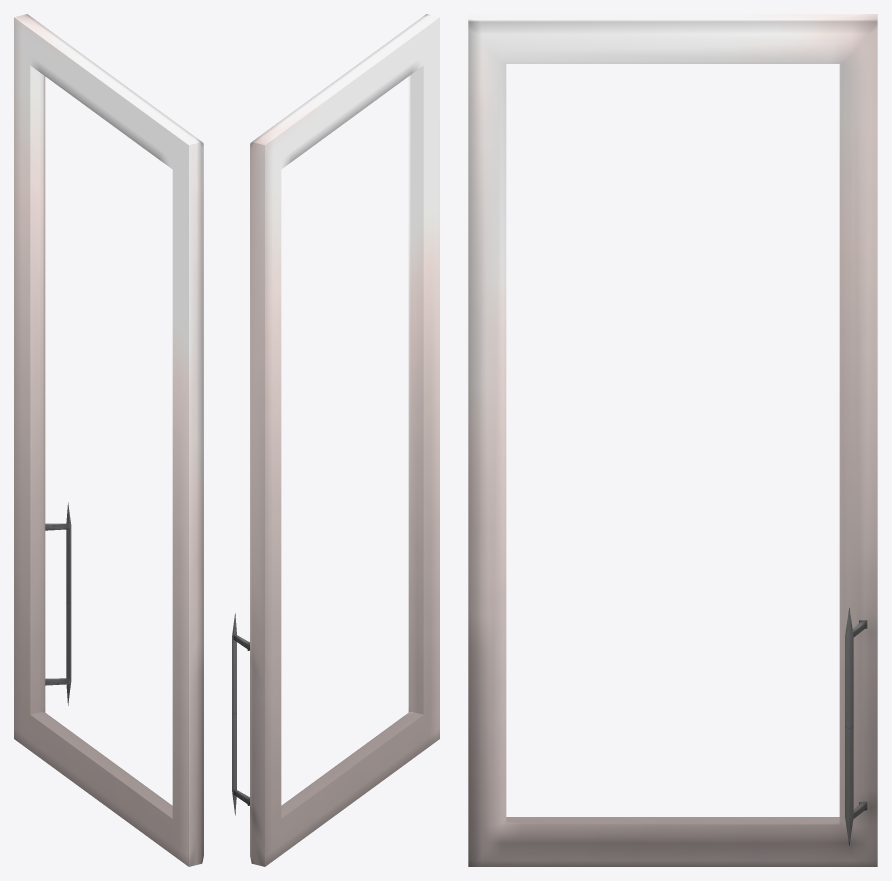
The model's file is kitchencupboard_doorWindow_L.glb.
3 renders of one model, left to right at view 1: azimuth 30°, elevation 25°; view 2: azimuth 150°, elevation 25°; view 3: azimuth 270°, elevation 25°, orthographic. The views are drawn at different scales.
Parts seen in each view (by area): view 1: RC_Furn_CabinetTopShelfDoor1; view 2: RC_Furn_CabinetTopShelfDoor1; view 3: RC_Furn_CabinetTopShelfDoor1.
Boxes of the visible parts, x1,y1,x2,y2 form: RC_Furn_CabinetTopShelfDoor1: [14, 14, 203, 866]; RC_Furn_CabinetTopShelfDoor1: [232, 14, 439, 866]; RC_Furn_CabinetTopShelfDoor1: [468, 14, 877, 866].
Size of the model in its own units: 0.1559 by 2.38 by 1.04.
1 material, 1 textured.
